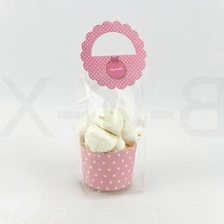snack: (68, 15, 155, 206)
